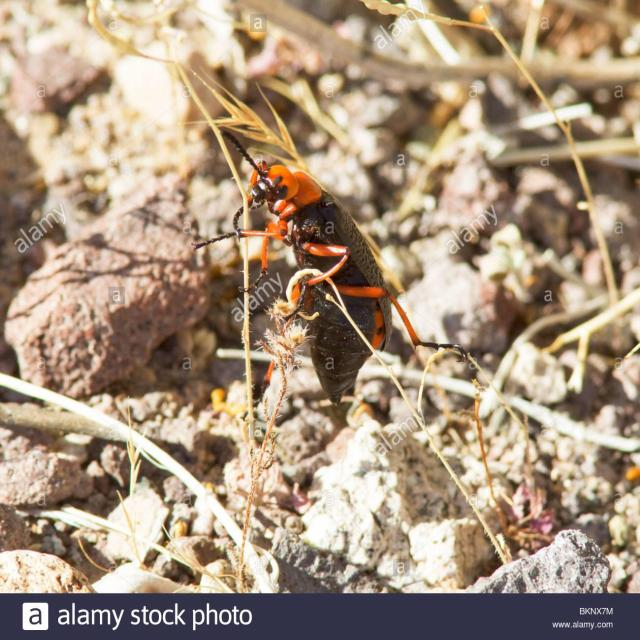BlisterBeetle-Adult-: (210, 126, 464, 397)
